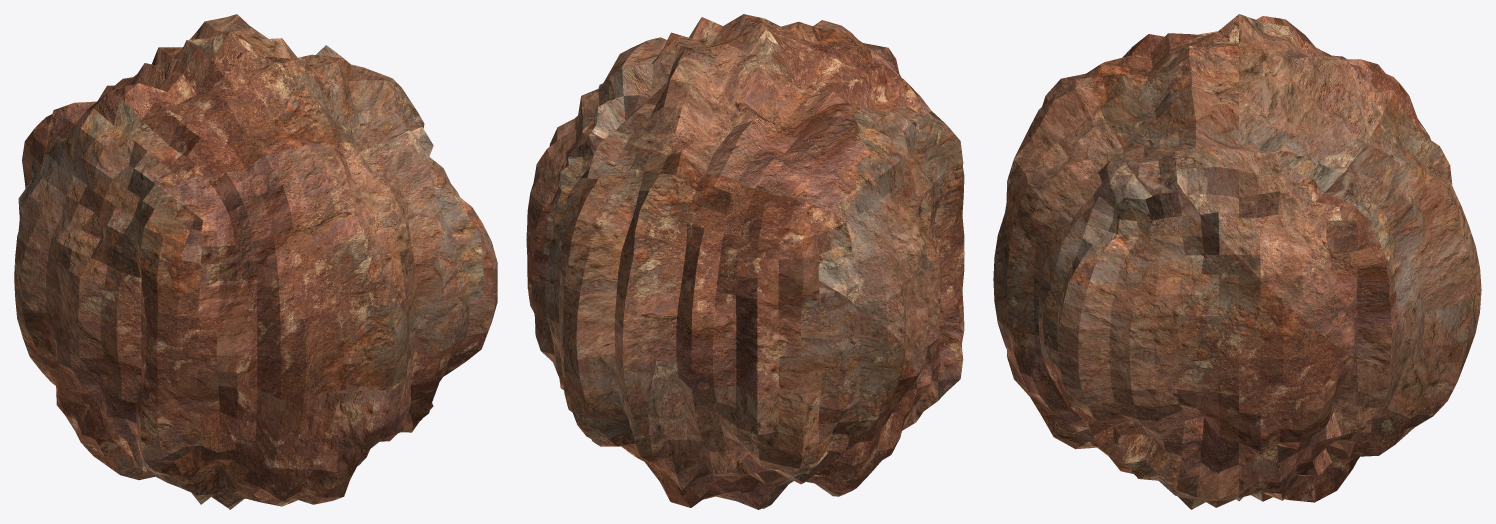
File: asteroid137.obj
The picture shows the model from 3 angles, left to right: view 1: azimuth 30°, elevation 25°; view 2: azimuth 150°, elevation 25°; view 3: azimuth 270°, elevation 25°; orthographic projection.
Parts seen in each view (by area): view 1: Cube_Cube.002; view 2: Cube_Cube.002; view 3: Cube_Cube.002.
Part boxes in pixels (<box>): Cube_Cube.002: <box>14,14,497,509</box>; Cube_Cube.002: <box>526,14,964,509</box>; Cube_Cube.002: <box>993,14,1481,509</box>.
Bounding box in the file's own units: 1.67 × 2.02 × 1.83.
